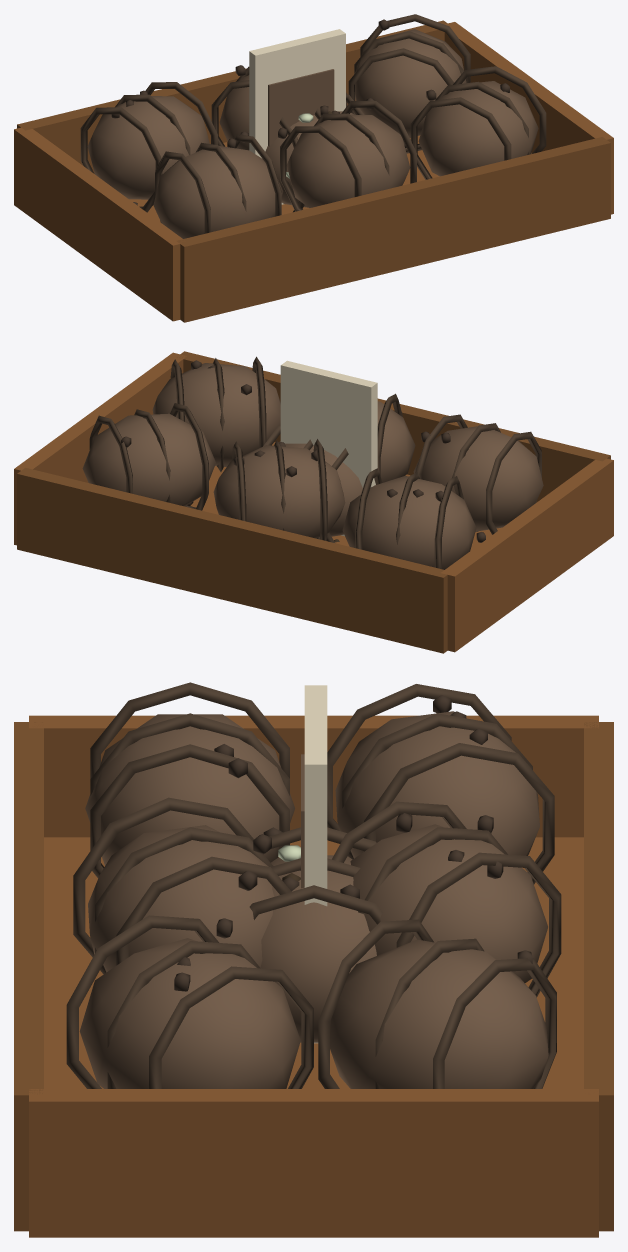
File: Veg_Taro.fbx
The picture shows the model from 3 angles, top to bottom: view 1: azimuth 30°, elevation 25°; view 2: azimuth 150°, elevation 25°; view 3: azimuth 270°, elevation 25°; orthographic projection. The views are drawn at different scales.
Parts seen in each view (by area): view 1: Veg_Taro__Stack, Veg_Taro__Seed, Veg_Taro; view 2: Veg_Taro__Stack, Veg_Taro__Seed, Veg_Taro; view 3: Veg_Taro__Stack, Veg_Taro, Veg_Taro__Seed.
Part boxes in pixels (box(x1,y1,x2,y2)): Veg_Taro__Stack: box(14, 14, 613, 322); Veg_Taro__Seed: box(249, 29, 345, 204); Veg_Taro: box(265, 94, 364, 212); Veg_Taro__Stack: box(14, 351, 613, 653); Veg_Taro__Seed: box(280, 360, 377, 536); Veg_Taro: box(263, 425, 362, 542); Veg_Taro__Stack: box(14, 682, 613, 1237); Veg_Taro: box(249, 827, 382, 1042); Veg_Taro__Seed: box(301, 685, 327, 1043).
Size of the model in its own units: 0.2435 by 0.09 by 0.16.
